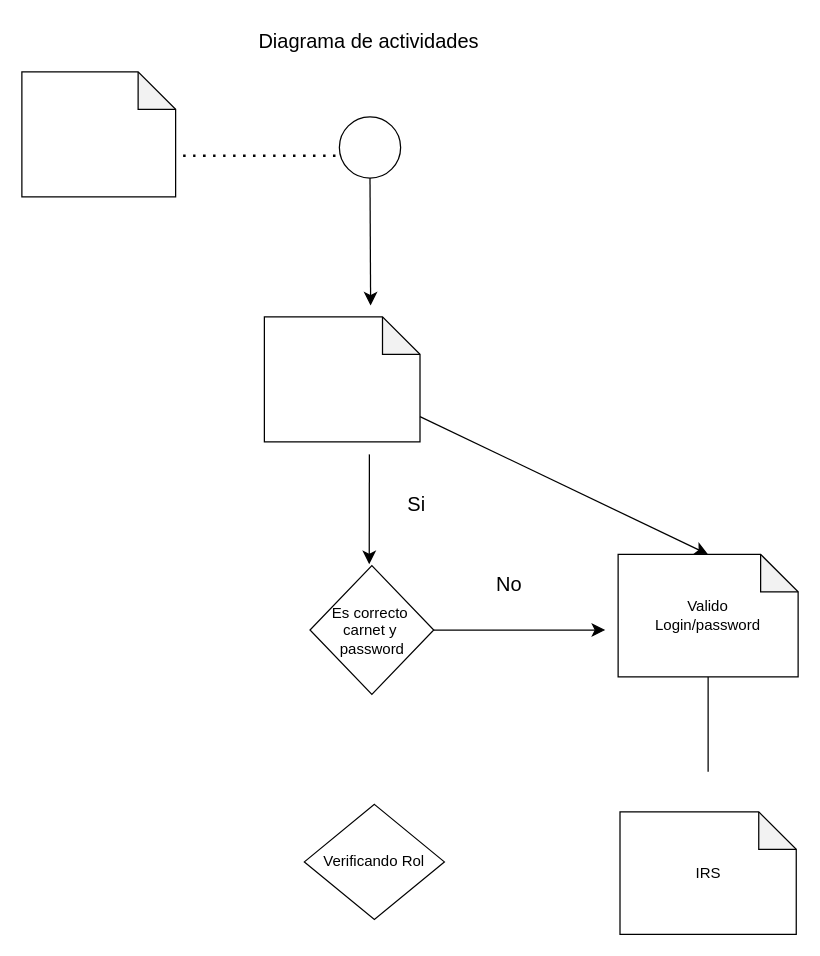
The diagram is 820 pixels wide and 956 high, and some of its shapes have lost their labels. The centre of each missing label's shape, as x and y in pixels:
"Usuario envia user_name y password" belongs at point (341, 379).
"Validar credenciales del usuario" belongs at point (98, 134).
